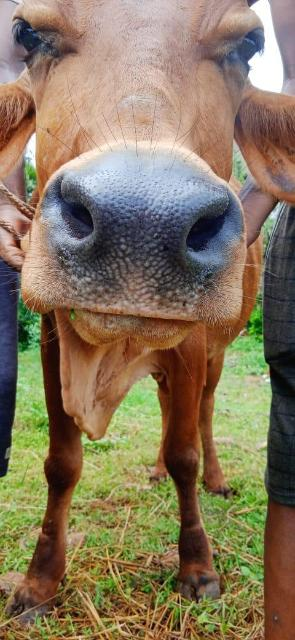Muzzle: (57, 158, 243, 294)
